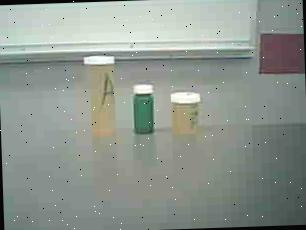Bottle A: (83, 49, 125, 142)
Bottle B: (167, 89, 202, 136)
Bottle C: (130, 80, 160, 136)
